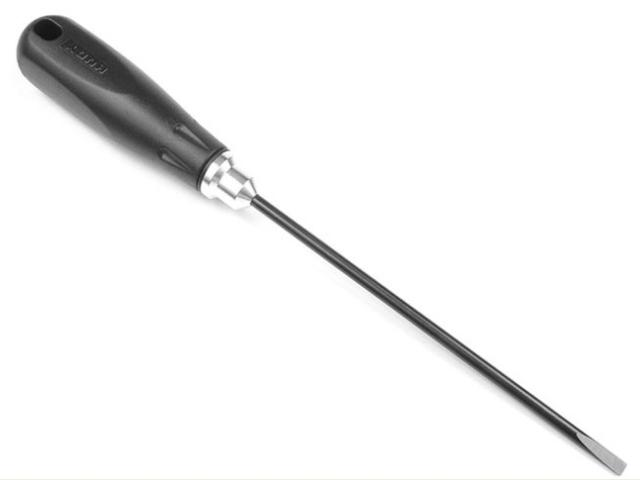Screwdriver: (18, 15, 625, 473)
